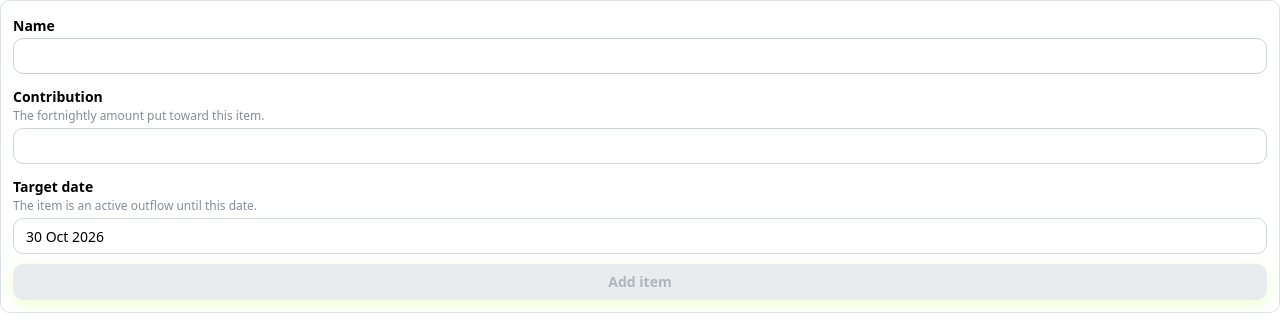
it: TemporaryItemForm › disables submit until required fields are filled
Expected: the button "Add item" is disabled, top-left (13, 264), bottom-right (1267, 300)
Type "New couch" into the field labelled "Name" at (640, 56), box top-left (13, 38), bottom-right (1267, 74)
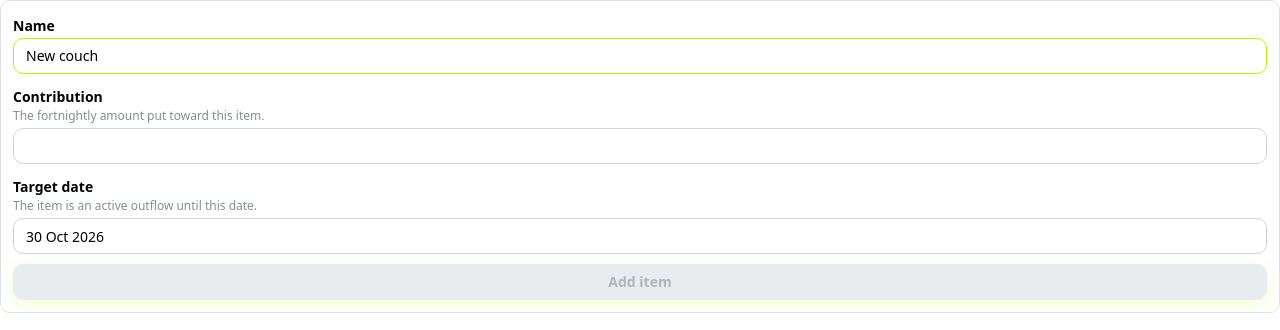
Expected: the button "Add item" is disabled, top-left (13, 264), bottom-right (1267, 300)
Type "75" into the field labelled "Contribution" at (640, 146), box top-left (13, 128), bottom-right (1267, 164)
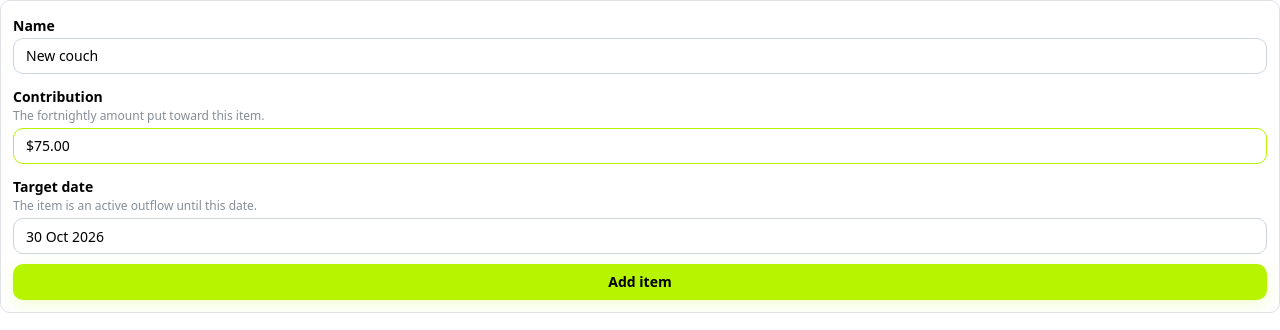
Expected: the button "Add item" is enabled, top-left (13, 264), bottom-right (1267, 300)
